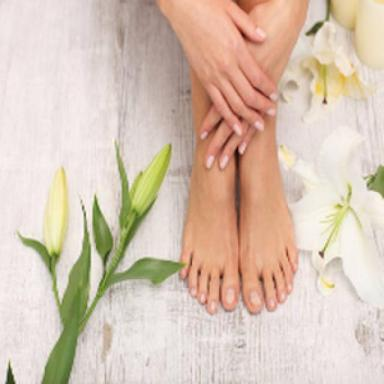normal skin: (158, 0, 308, 313), (157, 0, 275, 168), (180, 73, 240, 313), (239, 115, 298, 313), (250, 0, 307, 83)
